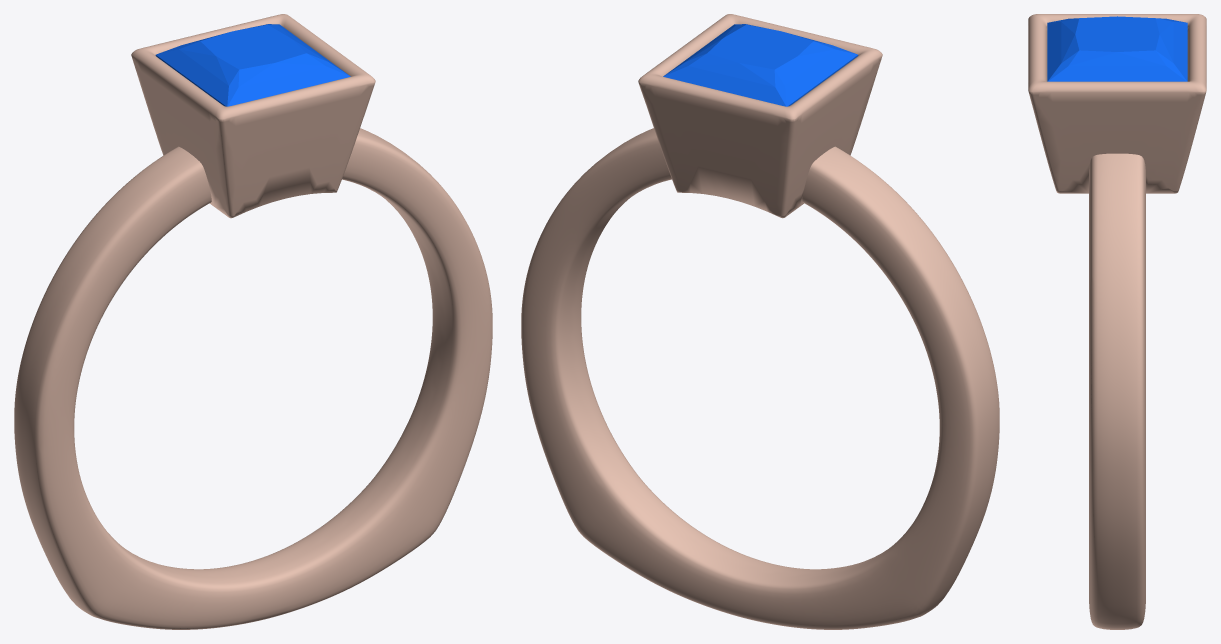
Rendered from bluesapphire-princess-rosegold-bezelset-europeanshank-solitaire.glb.
3 views of the same model, side by side, from view 1: azimuth 30°, elevation 25°; view 2: azimuth 150°, elevation 25°; view 3: azimuth 270°, elevation 25° (orthographic).
Visible parts, largest first — view 1: metal, stone; view 2: metal, stone; view 3: metal, stone.
Part boxes in pixels (x1,y1,x2,y2): metal: (14,14,492,629); stone: (155,24,350,106); metal: (521,14,999,629); stone: (663,24,858,106); metal: (1028,14,1206,629); stone: (1047,16,1187,81).
Size of the model in its own units: 20.11 by 23.65 by 6.89.
